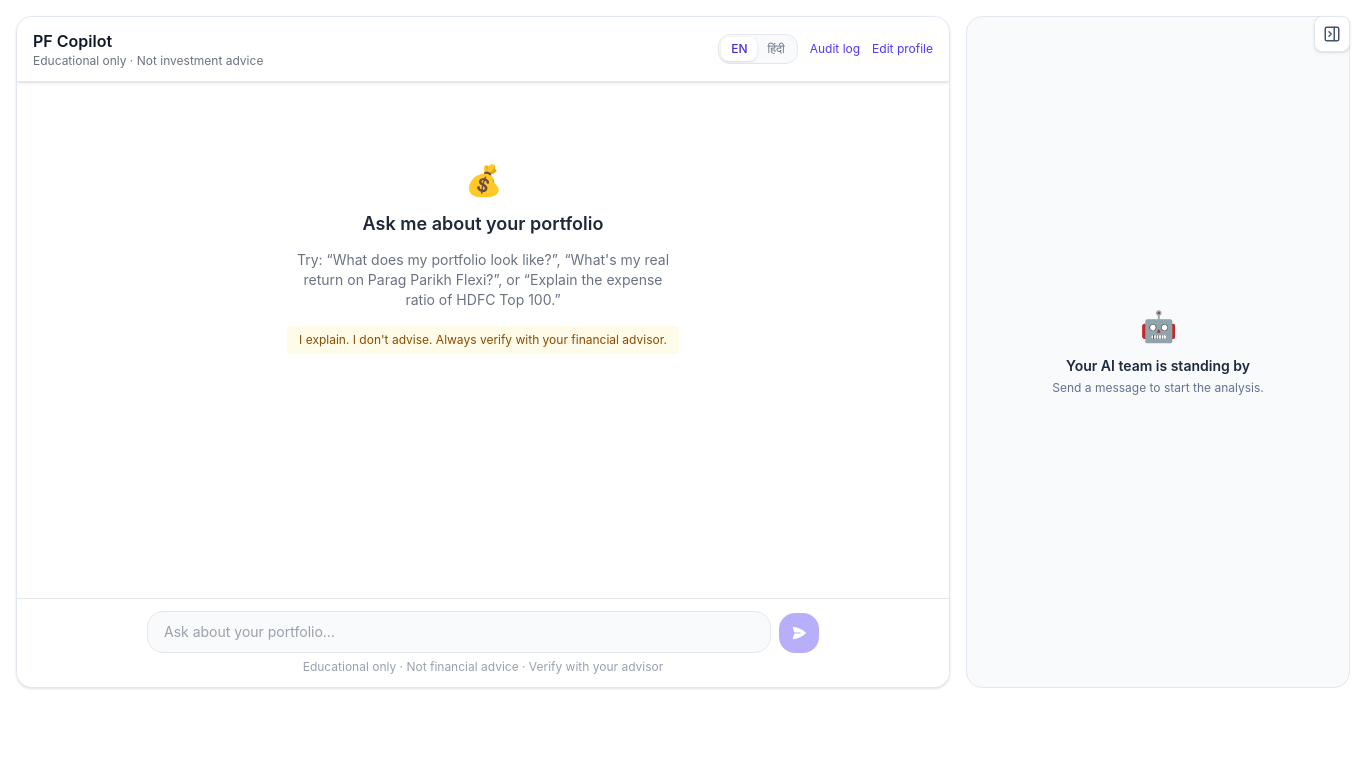
Test case: ChatPage workspace state › sets workspaceState to complete when the response has no tool traces and no workspace_state
Type "What is the weather today?" into the text box with placeholder "Ask about your portfolio…". click: (459,632)
box: [147, 611, 771, 653]
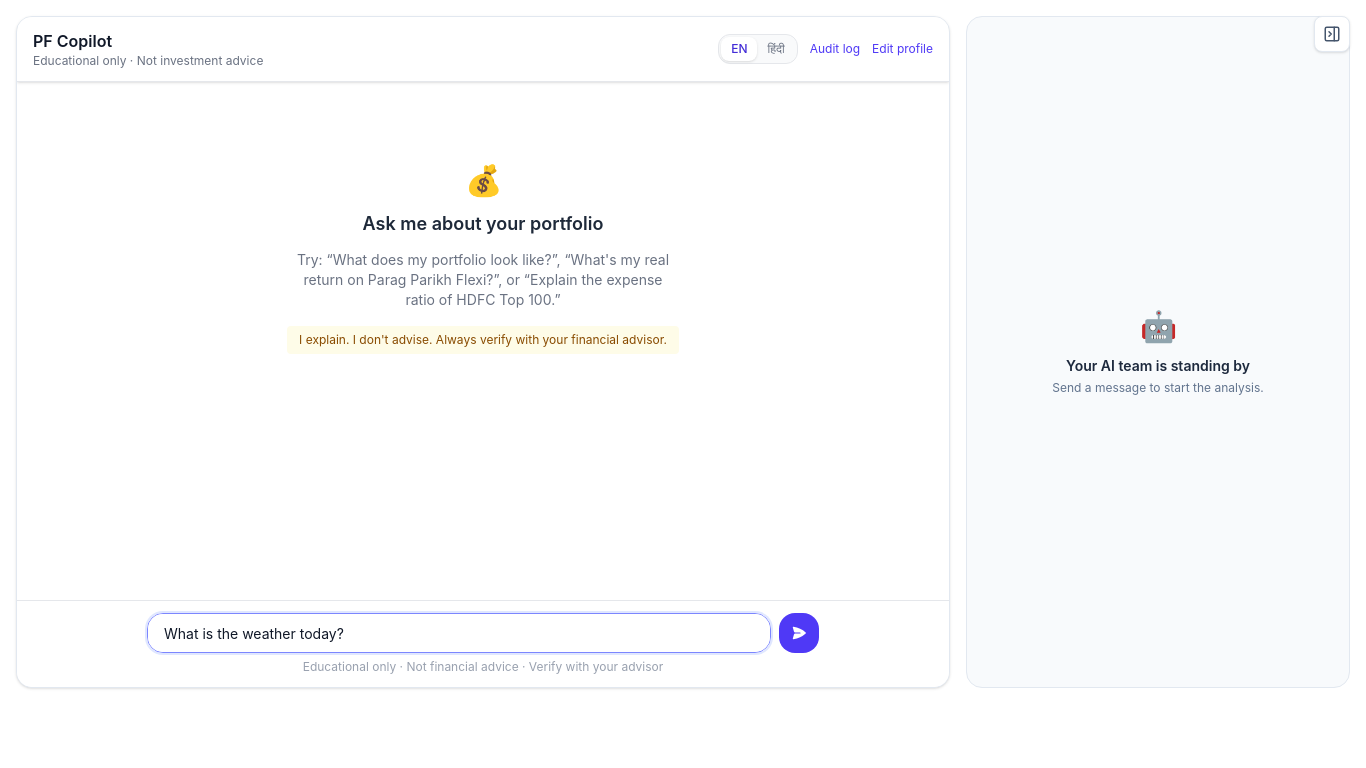
Click the button named "Send". click: (799,633)
box: [779, 613, 819, 653]
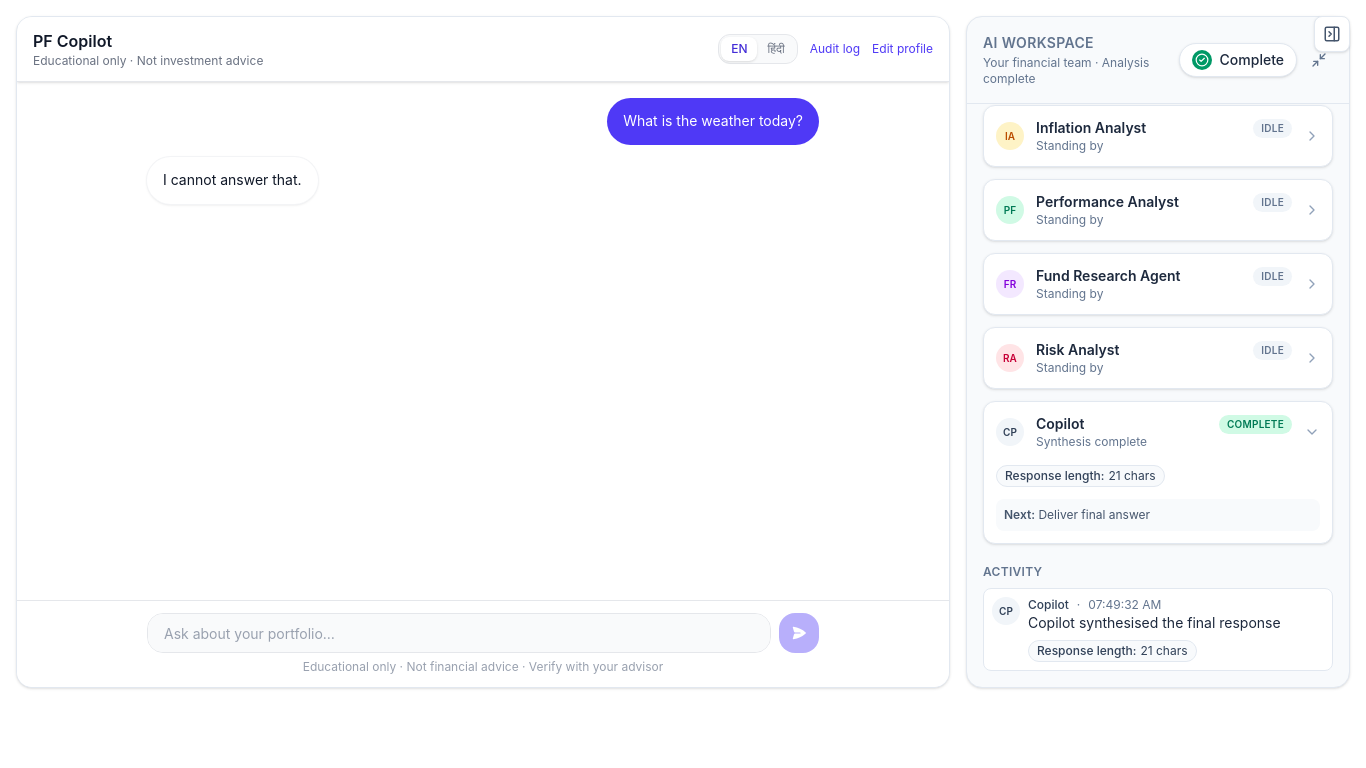
Expected: the element named "Copilot status: Complete" is shown, [1179, 43, 1297, 77]
